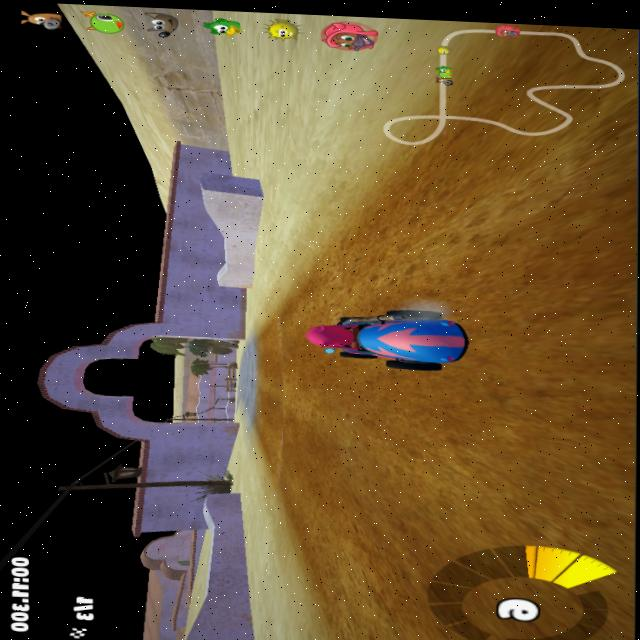player_kart: (305, 304, 478, 373)
track: (302, 369, 637, 640), (479, 26, 632, 383), (310, 216, 482, 308), (382, 104, 483, 222), (239, 344, 296, 423), (261, 422, 296, 500), (271, 298, 303, 346), (257, 328, 275, 344)
